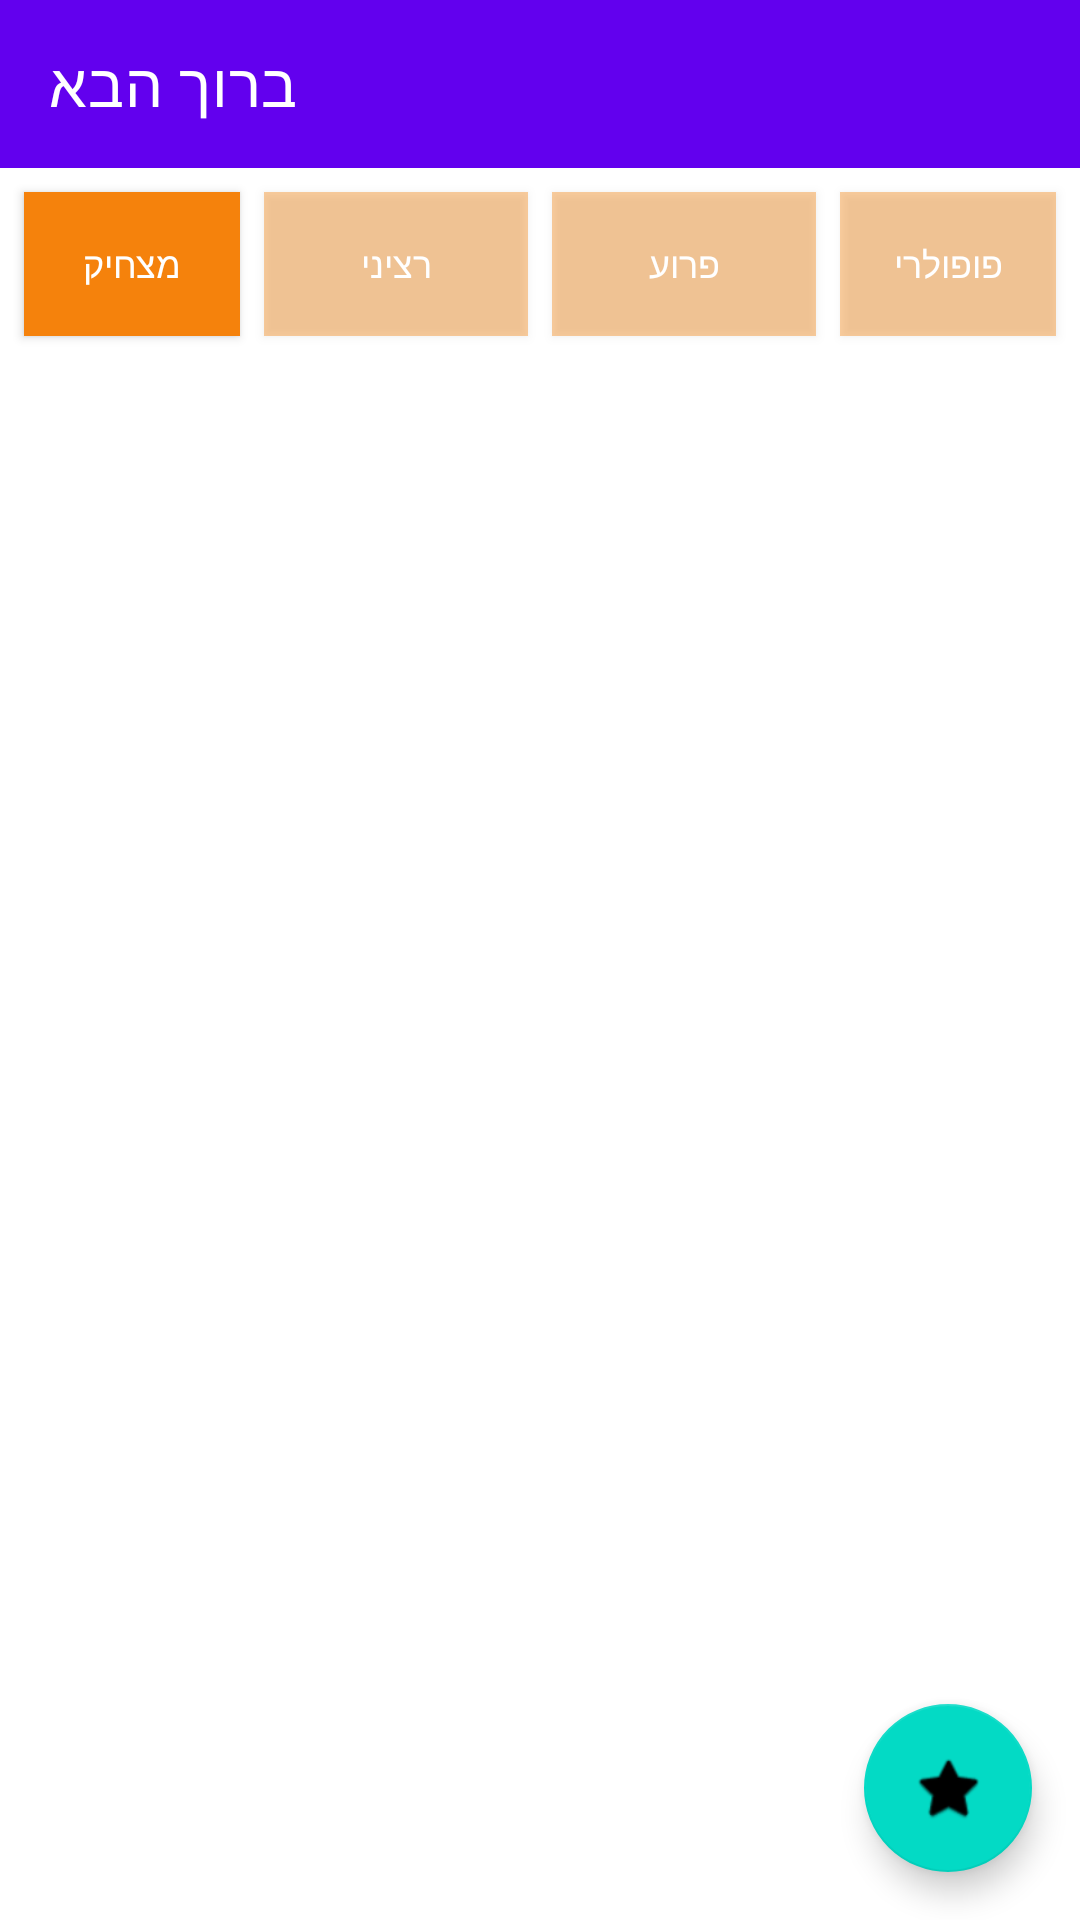

Where icons sit on this 1080 × 1920 app screen, as (x1, y1, x2, y2):
star on: (864, 1704, 1032, 1872)
